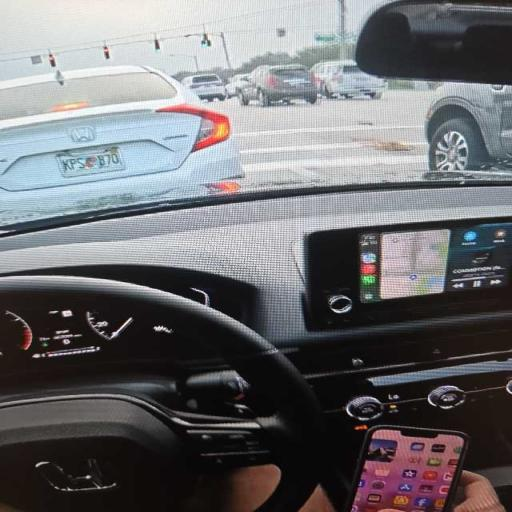car: (0, 0, 511, 511), (0, 67, 242, 211), (426, 83, 511, 171), (238, 65, 316, 106), (312, 61, 386, 99), (182, 74, 227, 101), (310, 61, 340, 97), (226, 74, 248, 97)
lane: (211, 91, 432, 188)
person: (200, 466, 279, 511), (454, 472, 505, 511)
